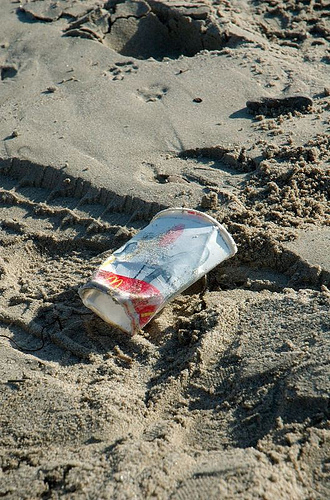litter: (80, 208, 238, 336)
